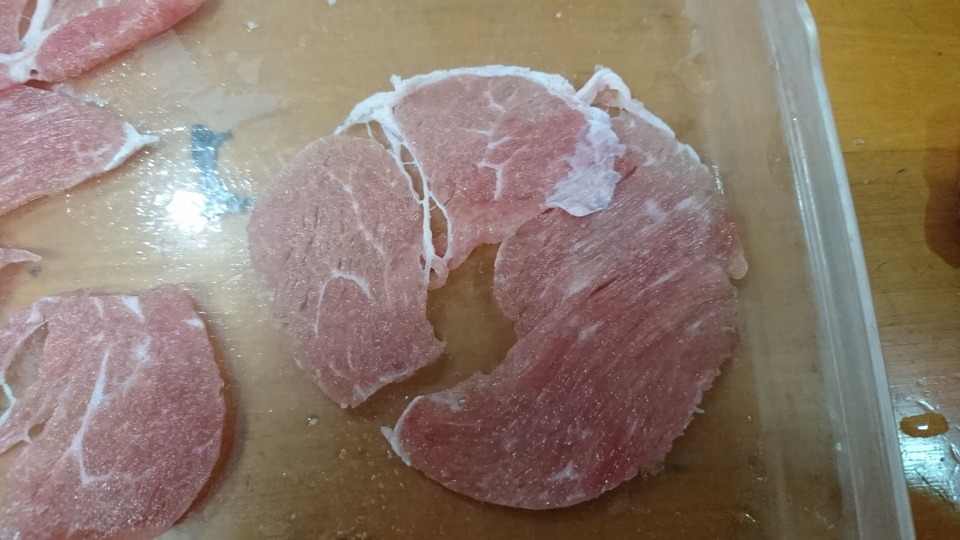restructured meat: (240, 93, 747, 489), (5, 258, 225, 533), (2, 2, 150, 222)
